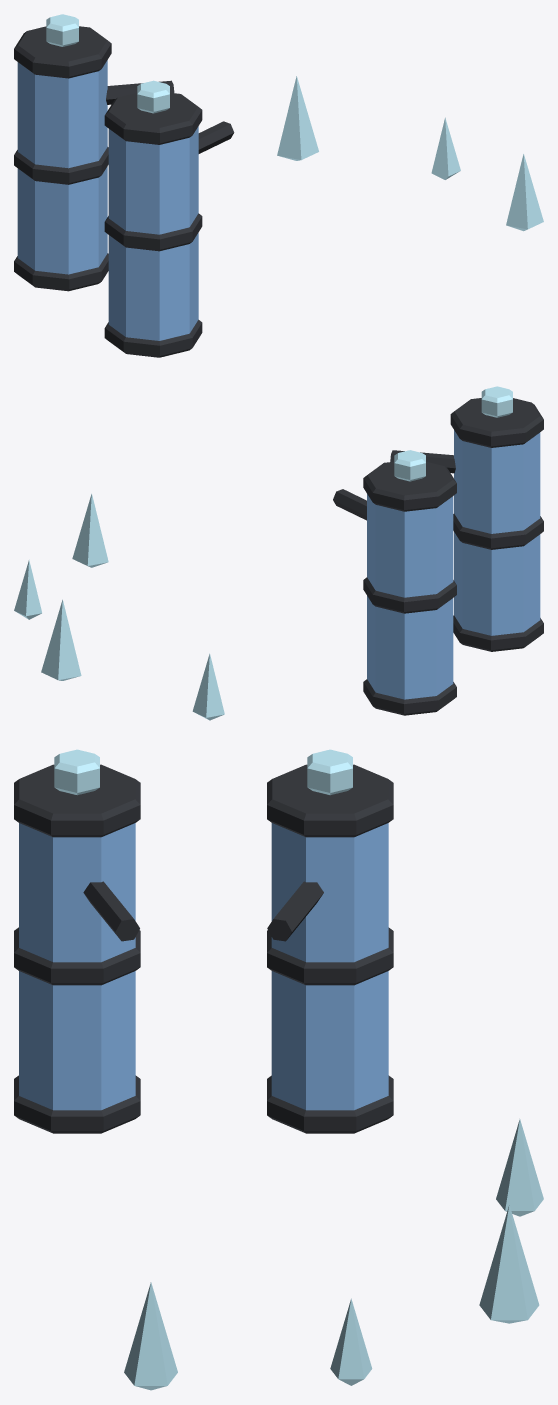
Rendered from GunDressA2.obj.
The picture shows the model from 3 angles, top to bottom: view 1: azimuth 30°, elevation 25°; view 2: azimuth 150°, elevation 25°; view 3: azimuth 270°, elevation 25°; orthographic projection. The views are drawn at different scales.
Parts seen in each view (by area): view 1: GunDressA2; view 2: GunDressA2; view 3: GunDressA2.
Part boxes in pixels (x1,y1,x2,y2): GunDressA2: [14, 14, 543, 357]; GunDressA2: [14, 386, 543, 720]; GunDressA2: [14, 749, 543, 1390].
Bounding box in the file's own units: 1.37 × 0.76 × 1.01.
